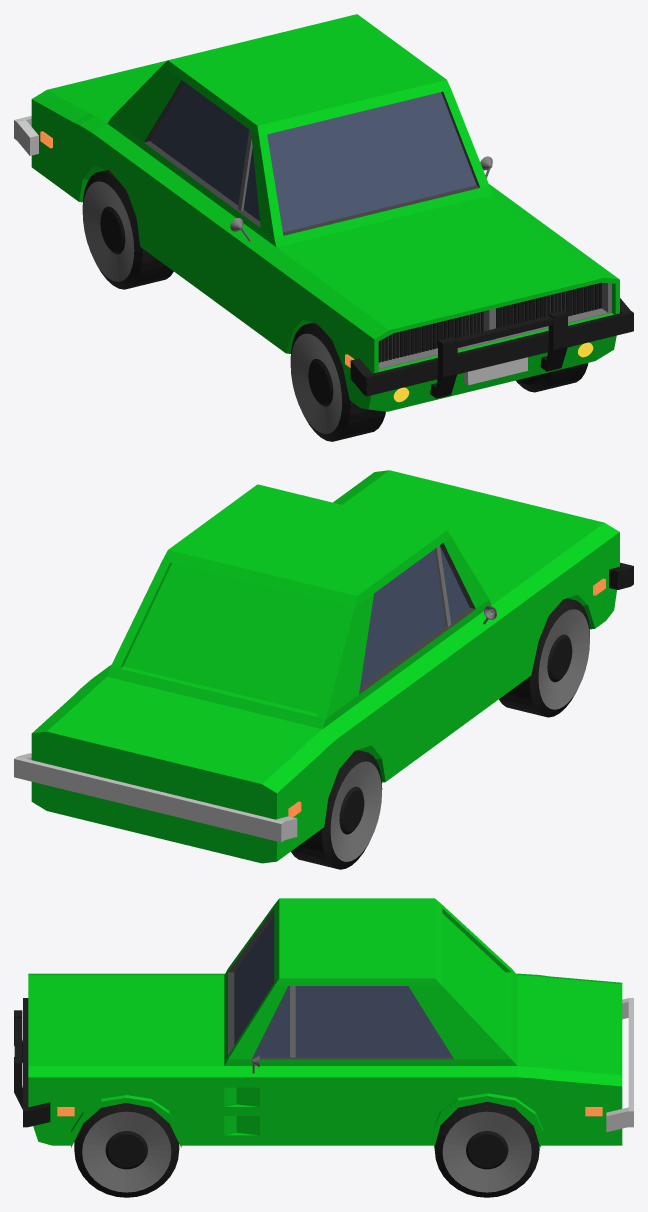
The model's file is Car.glb.
The picture shows the model from 3 angles, top to bottom: view 1: azimuth 30°, elevation 25°; view 2: azimuth 150°, elevation 25°; view 3: azimuth 270°, elevation 25°; orthographic projection. The views are drawn at different scales.
Parts seen in each view (by area): view 1: Cube, Cylinder.002, Cylinder.003, Cube.006, Cube.001, Cube.005, Cube.004, Cylinder, Cube.003, Cube.010; view 2: Cube, Cube.010, Cylinder.003, Cylinder.002, Cube.006; view 3: Cube, Cylinder.001, Cylinder, Cube.010, Cube.006, Cube.007.
Boxes of the visible parts, x1,y1,x2,y2 form: Cube: [31, 14, 619, 411]; Cylinder.002: [290, 322, 385, 441]; Cylinder.003: [82, 170, 173, 289]; Cube.006: [350, 298, 633, 396]; Cube.001: [378, 282, 601, 362]; Cube.005: [430, 337, 457, 398]; Cube.004: [540, 310, 567, 371]; Cylinder: [516, 363, 588, 392]; Cube.003: [455, 315, 552, 347]; Cube.010: [14, 116, 38, 155]; Cube: [31, 470, 619, 863]; Cube.010: [14, 753, 297, 842]; Cylinder.003: [291, 750, 382, 869]; Cylinder.002: [499, 598, 589, 717]; Cube.006: [609, 562, 633, 589]; Cube: [28, 898, 622, 1147]; Cylinder.001: [434, 1101, 539, 1197]; Cylinder: [74, 1103, 179, 1197]; Cube.010: [606, 998, 633, 1132]; Cube.006: [23, 998, 50, 1127]; Cube.007: [290, 986, 295, 1057].
Bounding box in the file's own units: 4.36 × 3.76 × 10.1.
